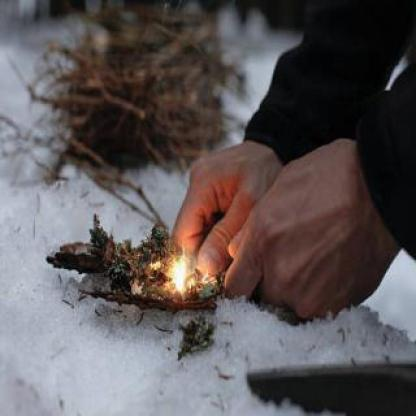fire: (161, 230, 200, 302)
